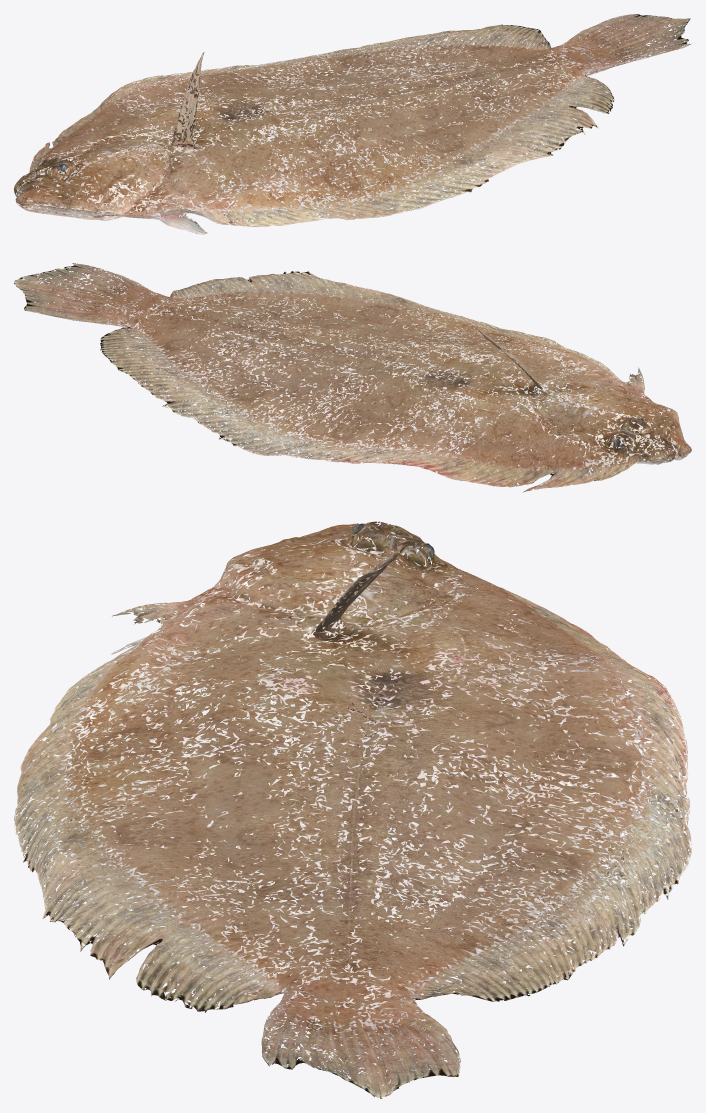
File: flounder.glb
3 renders of one model, top to bottom at view 1: azimuth 30°, elevation 25°; view 2: azimuth 150°, elevation 25°; view 3: azimuth 270°, elevation 25°, orthographic. The views are drawn at different scales.
Visible parts, largest first — view 1: Object_12, Object_6; view 2: Object_6, Object_12; view 3: Object_6, Object_12.
Boxes of the visible parts, left/top/right/bottom form: Object_12: left=14, top=14, right=690, bottom=234; Object_6: left=14, top=15, right=688, bottom=234; Object_6: left=14, top=263, right=685, bottom=492; Object_12: left=14, top=263, right=691, bottom=490; Object_6: left=15, top=521, right=691, bottom=1098; Object_12: left=14, top=521, right=691, bottom=1097.
Bounding box in the file's own units: 17.56 × 3.28 × 8.49.
2 materials, 2 textured.
